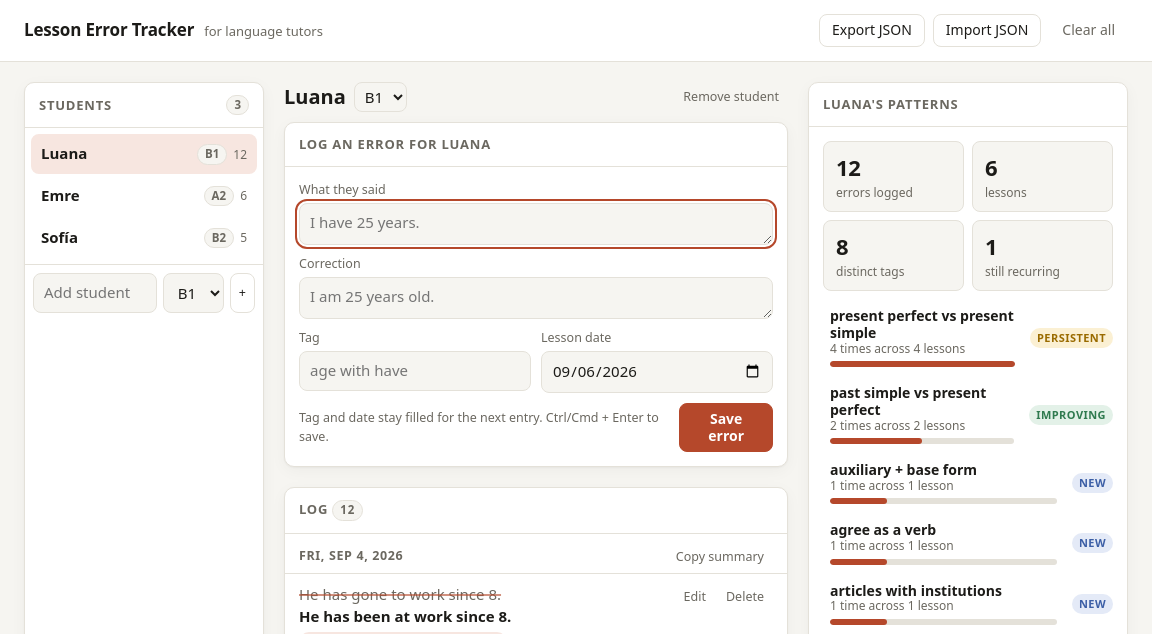
Scenario: App › adds a student and logs an error, which persists to localStorage
Type "Test Student" into the field named "New student name".
click(95, 293); type("Test Student")  # box [33,273,157,313]
Click the button named "Add student".
click(242, 293)  # box [230,273,255,313]
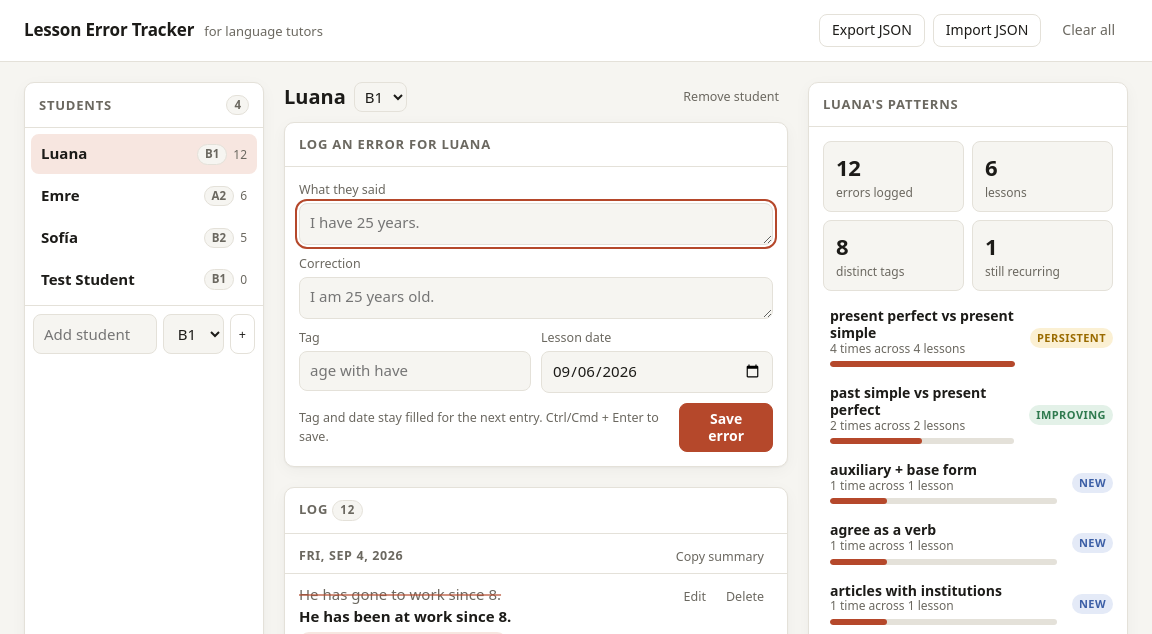
Click the button "Test Student B1 0".
click(144, 280)  # box [31,260,257,300]
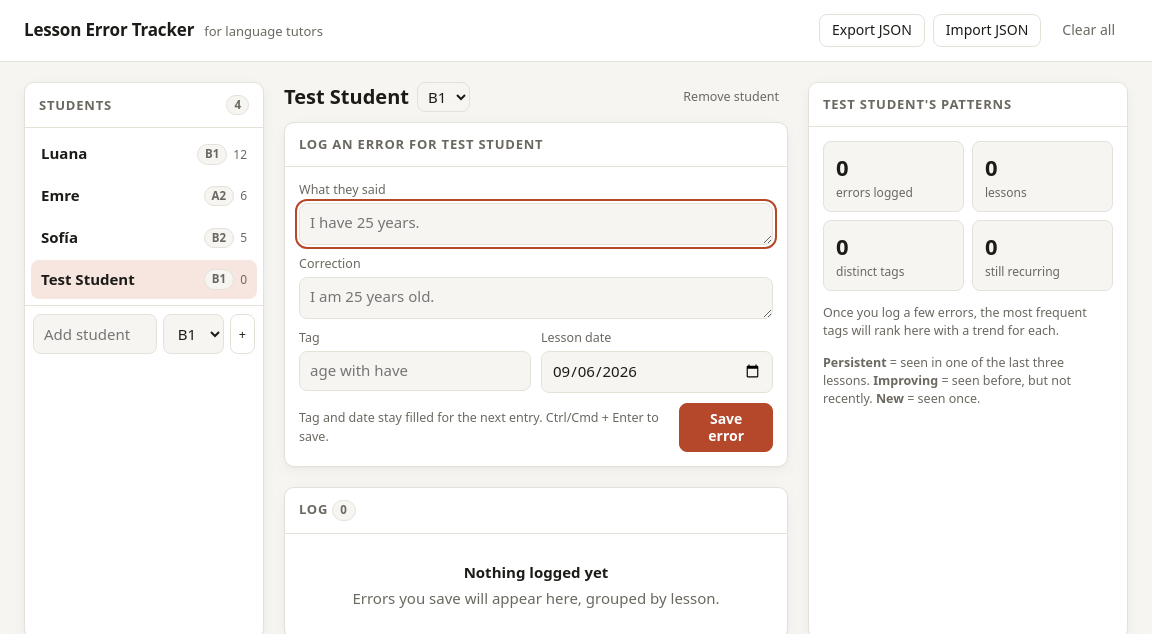
Type "She go home" into the text box labelled "What they said".
click(536, 224); type("She go home")  # box [299,203,773,245]
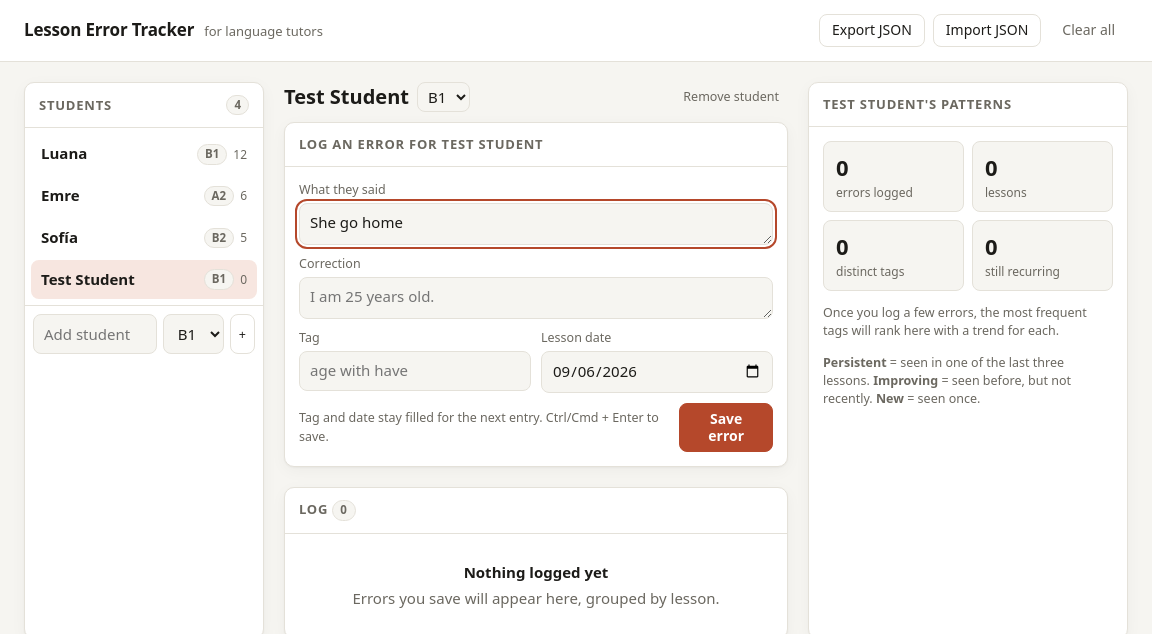
Type "She goes home" into the text box labelled "Correction".
click(536, 298); type("She goes home")  # box [299,277,773,319]
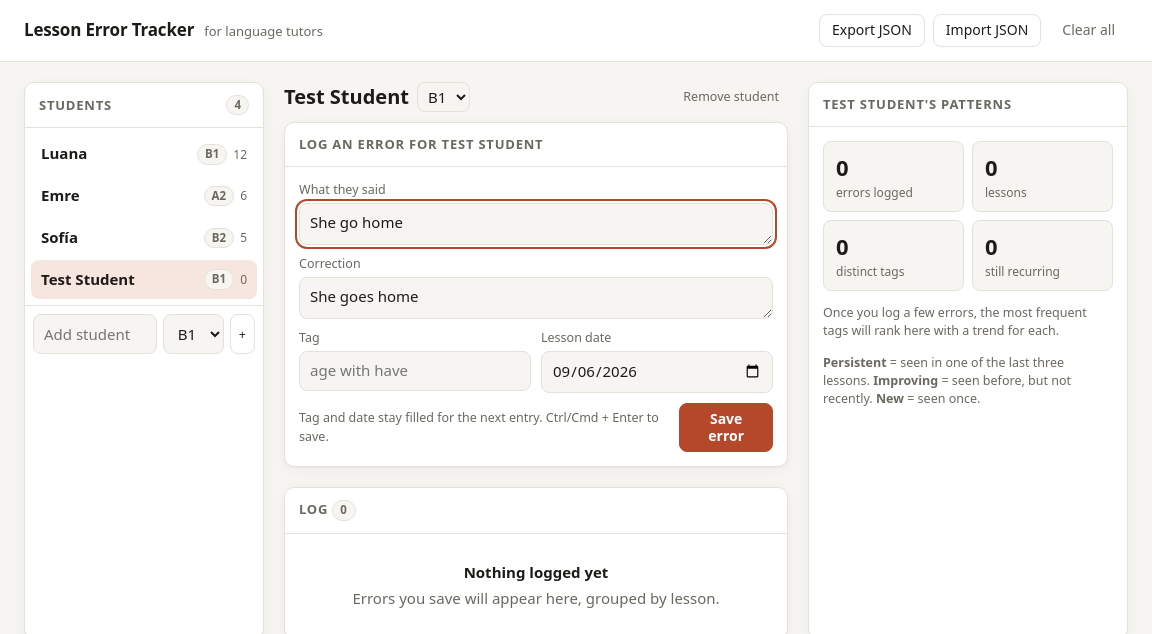
Type "third person -s" into the field labelled "Tag".
click(415, 371); type("third person -s")  # box [299,351,531,391]
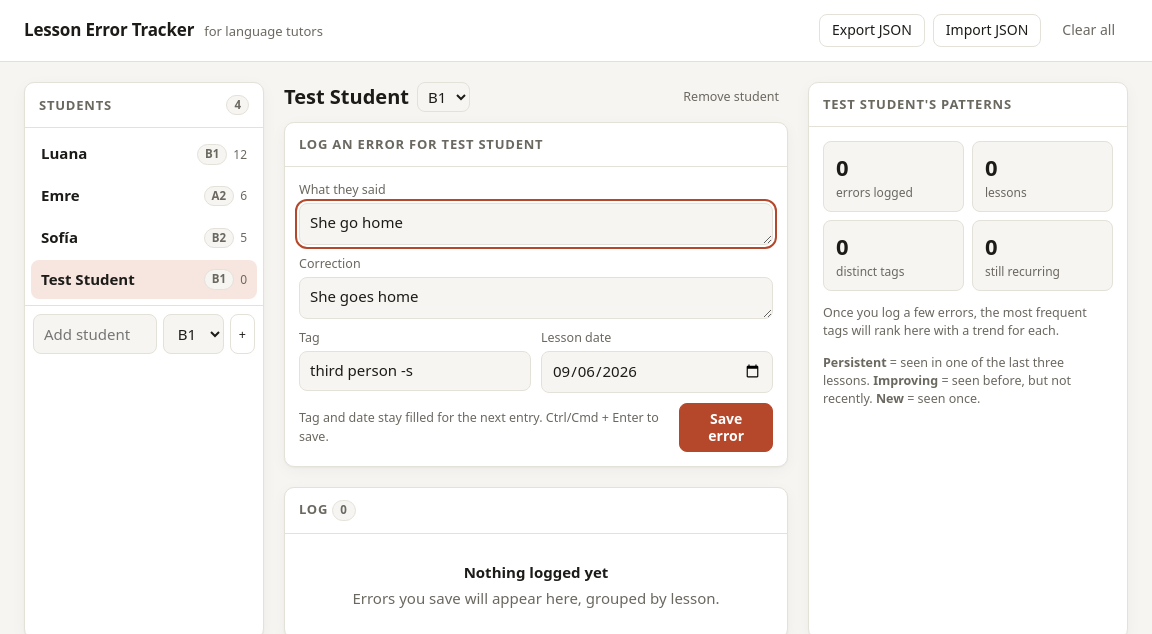
Click the button "Save error".
click(726, 428)  # box [679,403,773,452]
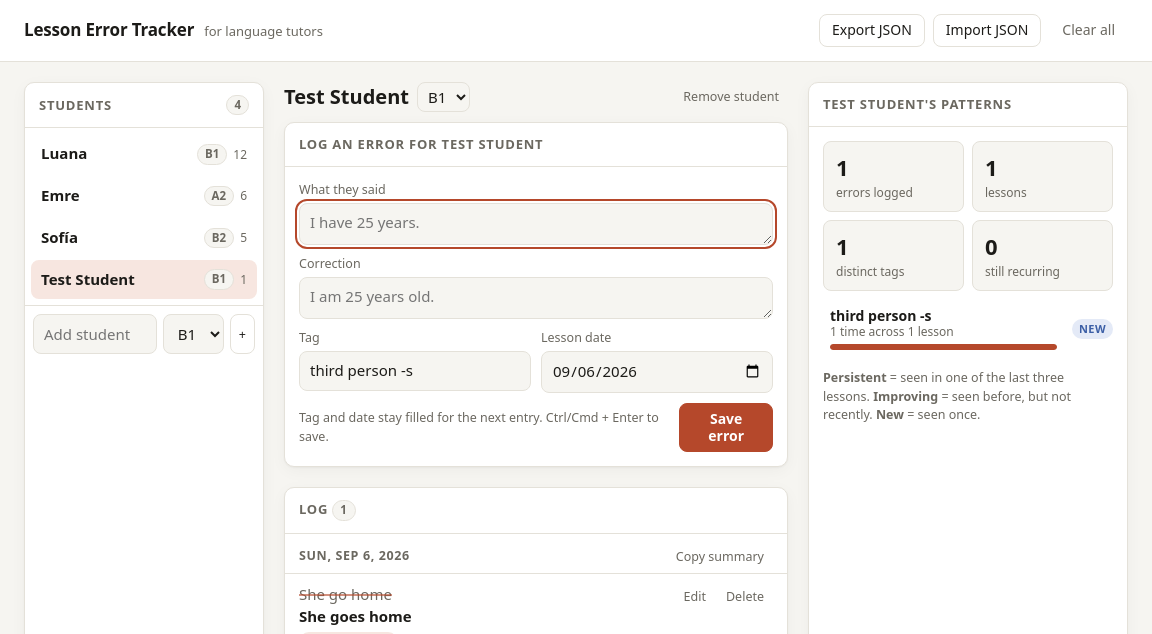
Expected: the text "She goes home" is shown, [299,606,412,626]
